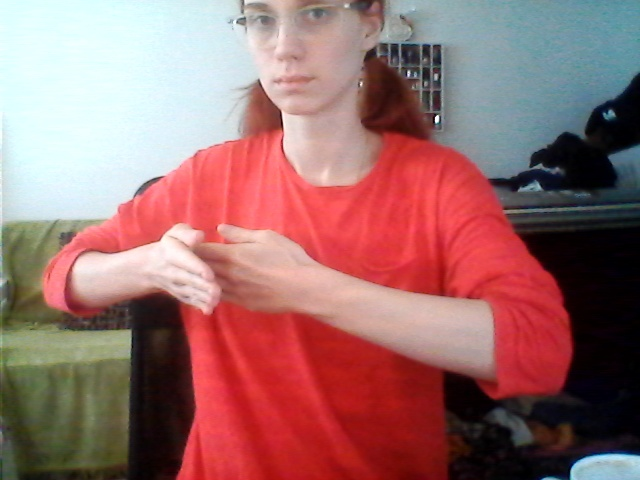dvere: (152, 215, 322, 326)
